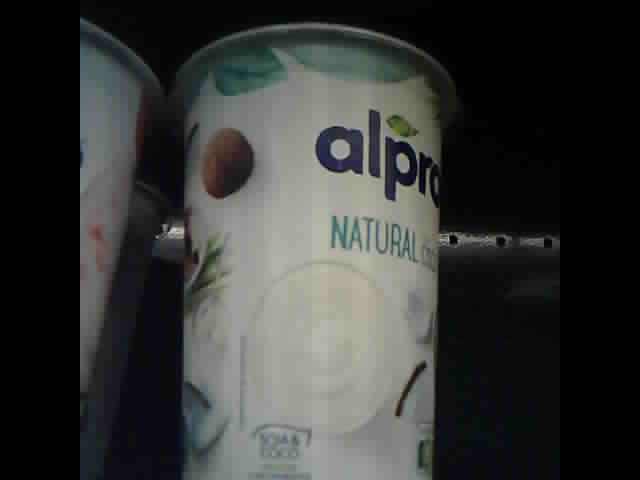alpro: (176, 22, 454, 480), (79, 13, 160, 438)
